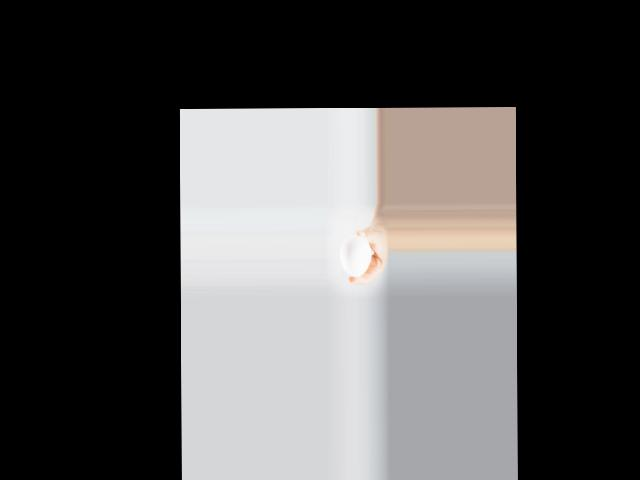egg: (340, 236, 371, 277)
